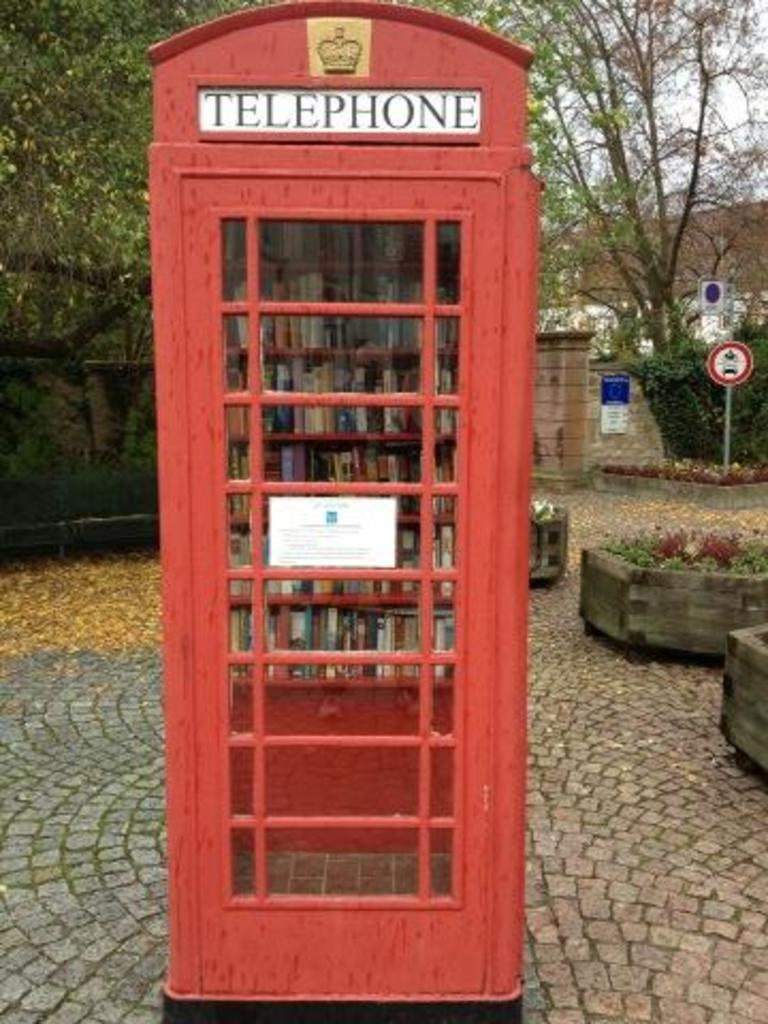Tree: (0, 0, 768, 478)
